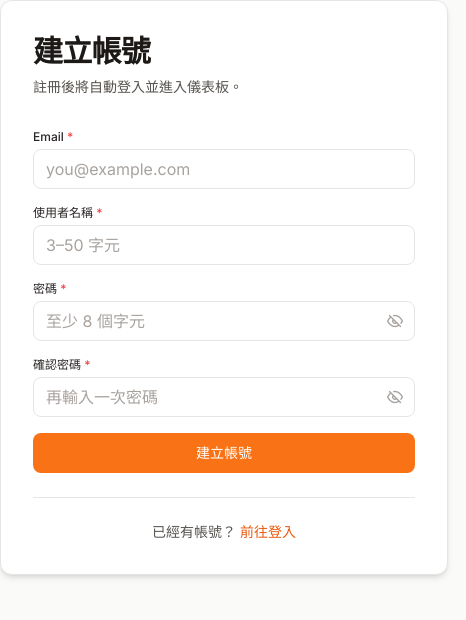
Test: RegisterView › 註冊 API 回傳欄位驗證錯誤：訊息顯示在對應欄位下、不顯示制式 banner
Step 1. Type "a@b.com" into the field labelled "Email *" → [224, 169], box left=33, top=149, right=415, bottom=189
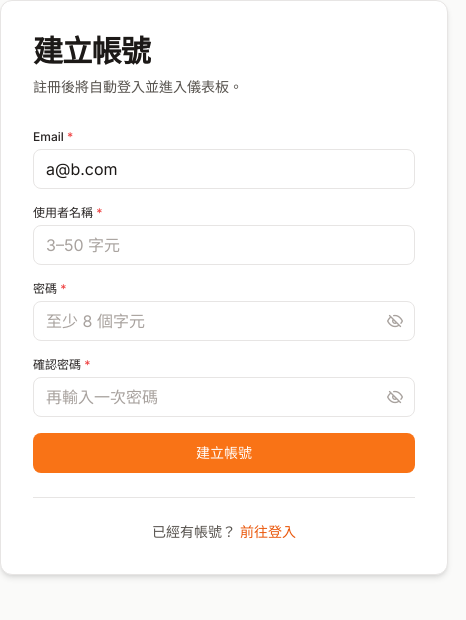
Step 2. Type "alice" into the field named "username" → [224, 245], box left=33, top=225, right=415, bottom=265
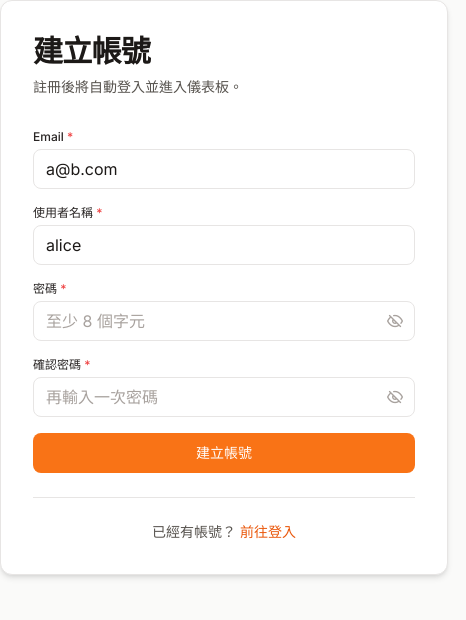
Step 3. Type "password" into the password field named "password" → [224, 321], box left=33, top=301, right=415, bottom=341
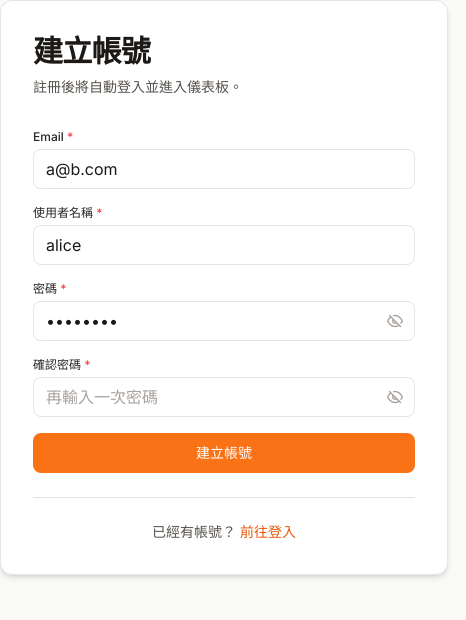
Step 4. Type "password" into the password field named "confirmPassword" → [224, 397], box left=33, top=377, right=415, bottom=417
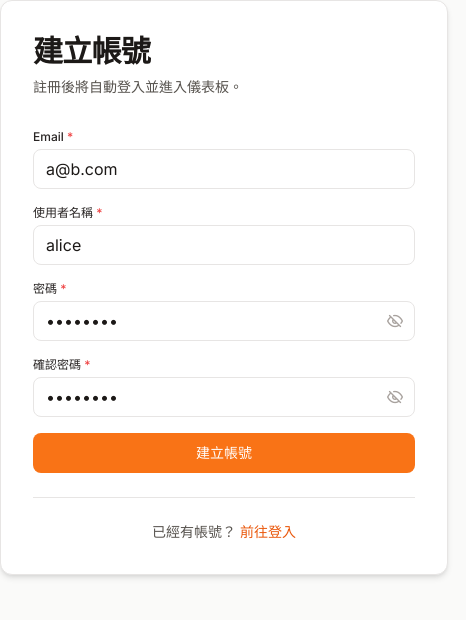
Step 5. Submit the form, box left=33, top=129, right=415, bottom=473
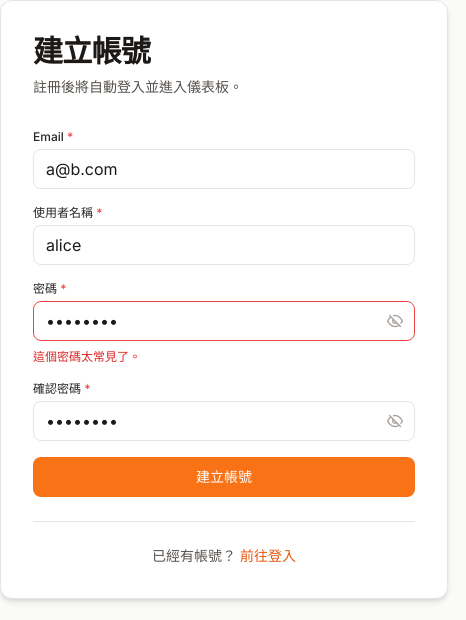
Expected: the text "這個密碼太常見了。" is shown, left=33, top=349, right=141, bottom=364
